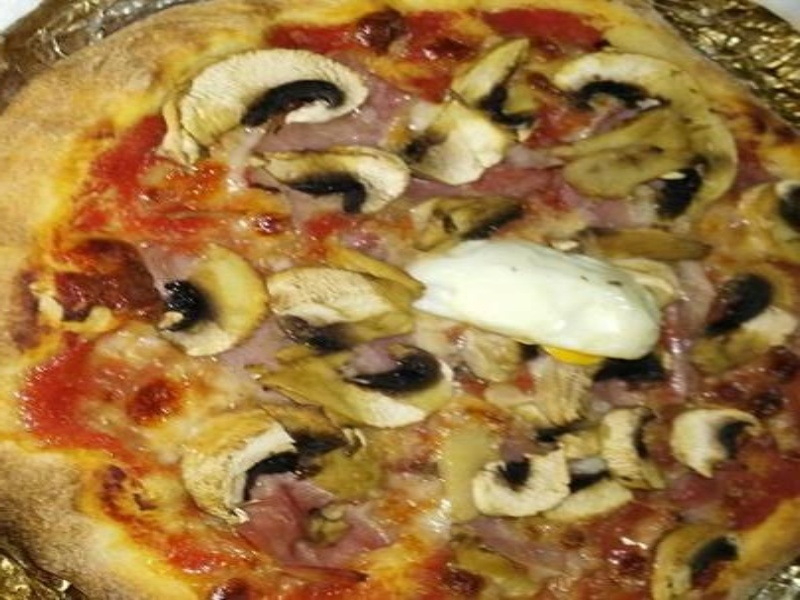champignon: (557, 46, 751, 230), (174, 47, 373, 137), (141, 234, 272, 365), (182, 401, 304, 527), (249, 144, 417, 223), (464, 444, 583, 523)
